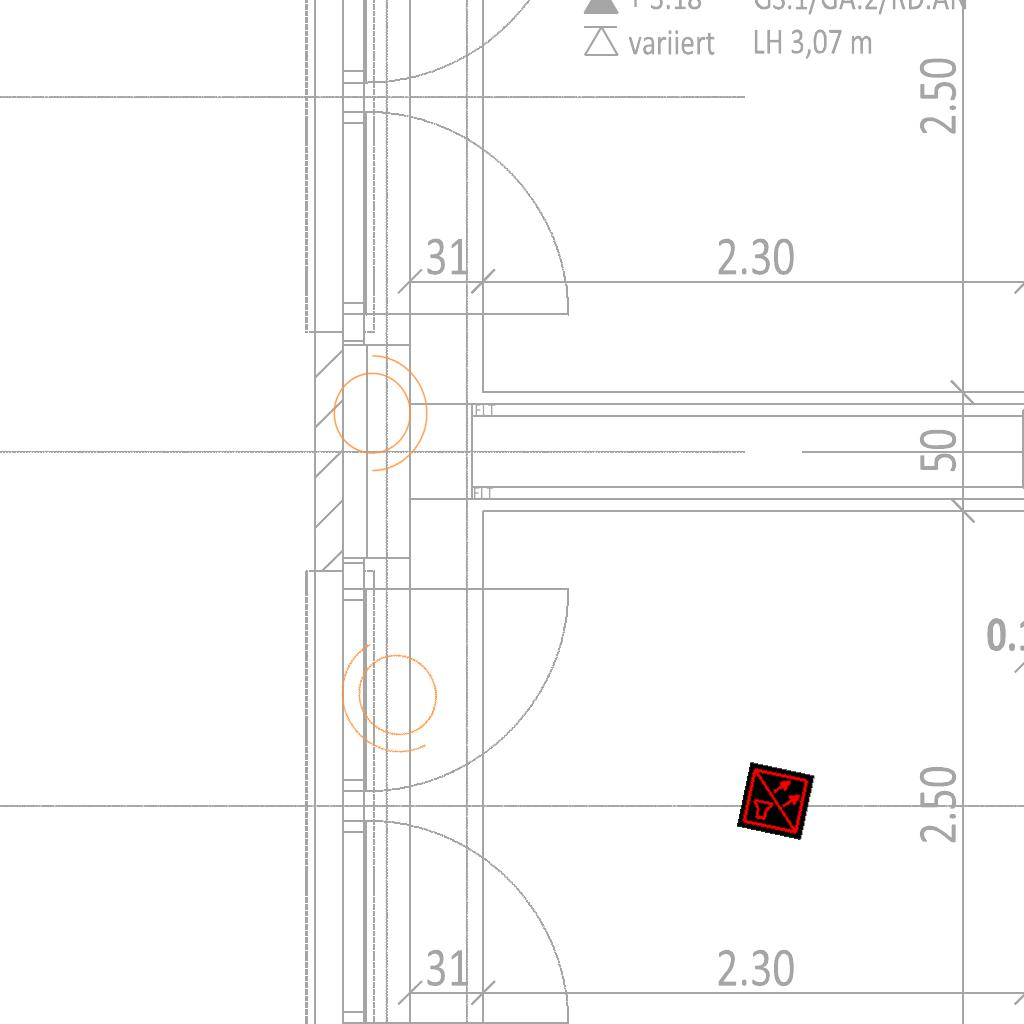OKW_Multisensormelder_(Kombination_optischer_Rauch-Kahlenmonoxid_Waerme-Melder): (736, 761, 816, 841)
Scheinwerfer_fuer_Alarmbeleuchtung: (314, 615, 476, 785), (321, 344, 433, 476)
